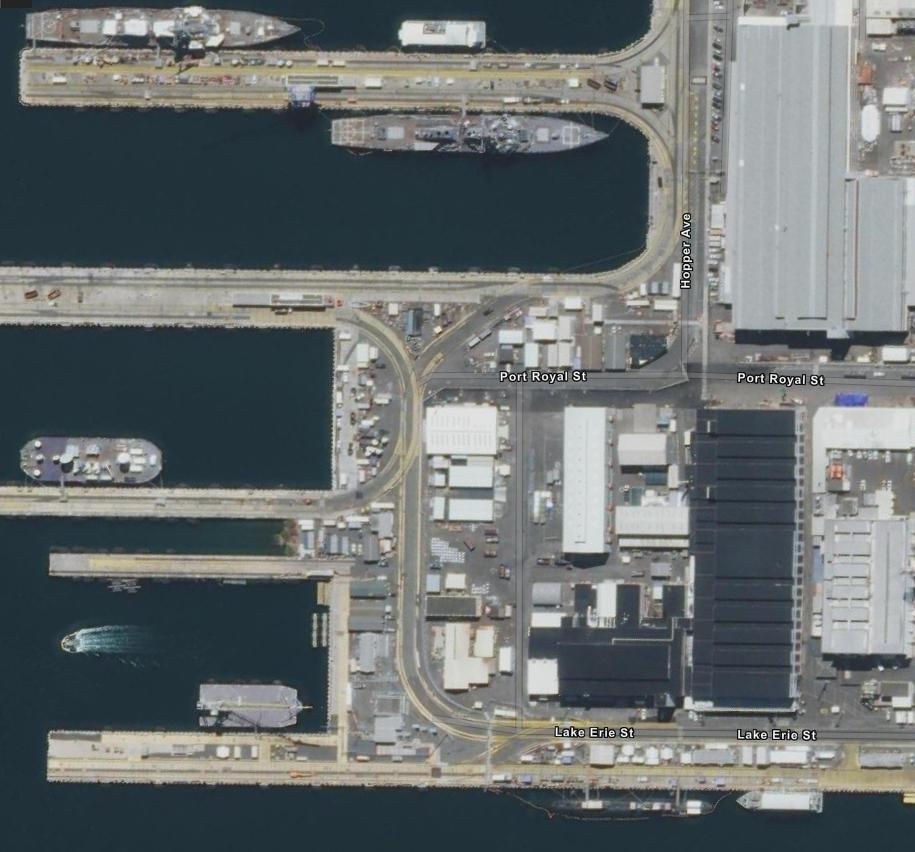fregate: (325, 107, 618, 165), (24, 2, 312, 52)
submarine: (510, 787, 721, 826)
